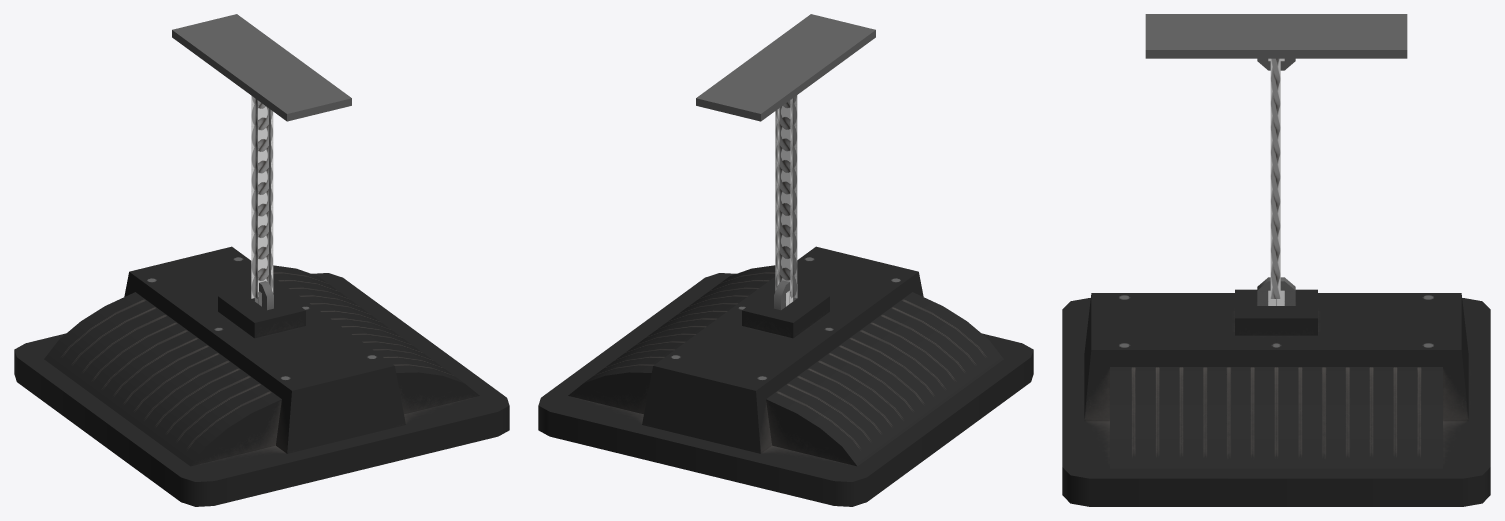
The model's file is low_poly_industrial_ceiling_lamp.glb.
The picture shows the model from 3 angles, left to right: view 1: azimuth 30°, elevation 25°; view 2: azimuth 150°, elevation 25°; view 3: azimuth 270°, elevation 25°; orthographic projection. The views are drawn at different scales.
Visible parts, largest first — view 1: Lamp_Base, Lamp_Holder, Lamp_Chain; view 2: Lamp_Base, Lamp_Holder, Lamp_Chain; view 3: Lamp_Base, Lamp_Holder, Lamp_Chain.
Boxes of the visible parts, x1=… form: Lamp_Base: x1=14, y1=246, x2=509, y2=506; Lamp_Holder: x1=172, y1=14, x2=351, y2=121; Lamp_Chain: x1=251, y1=96, x2=273, y2=298; Lamp_Base: x1=538, y1=246, x2=1033, y2=506; Lamp_Holder: x1=696, y1=14, x2=875, y2=121; Lamp_Chain: x1=775, y1=95, x2=797, y2=298; Lamp_Base: x1=1062, y1=277, x2=1490, y2=506; Lamp_Holder: x1=1145, y1=14, x2=1407, y2=70; Lamp_Chain: x1=1270, y1=58, x2=1280, y2=298.
Size of the model in its own units: 0.317 by 0.3142 by 0.317.
1 material, 1 textured.
